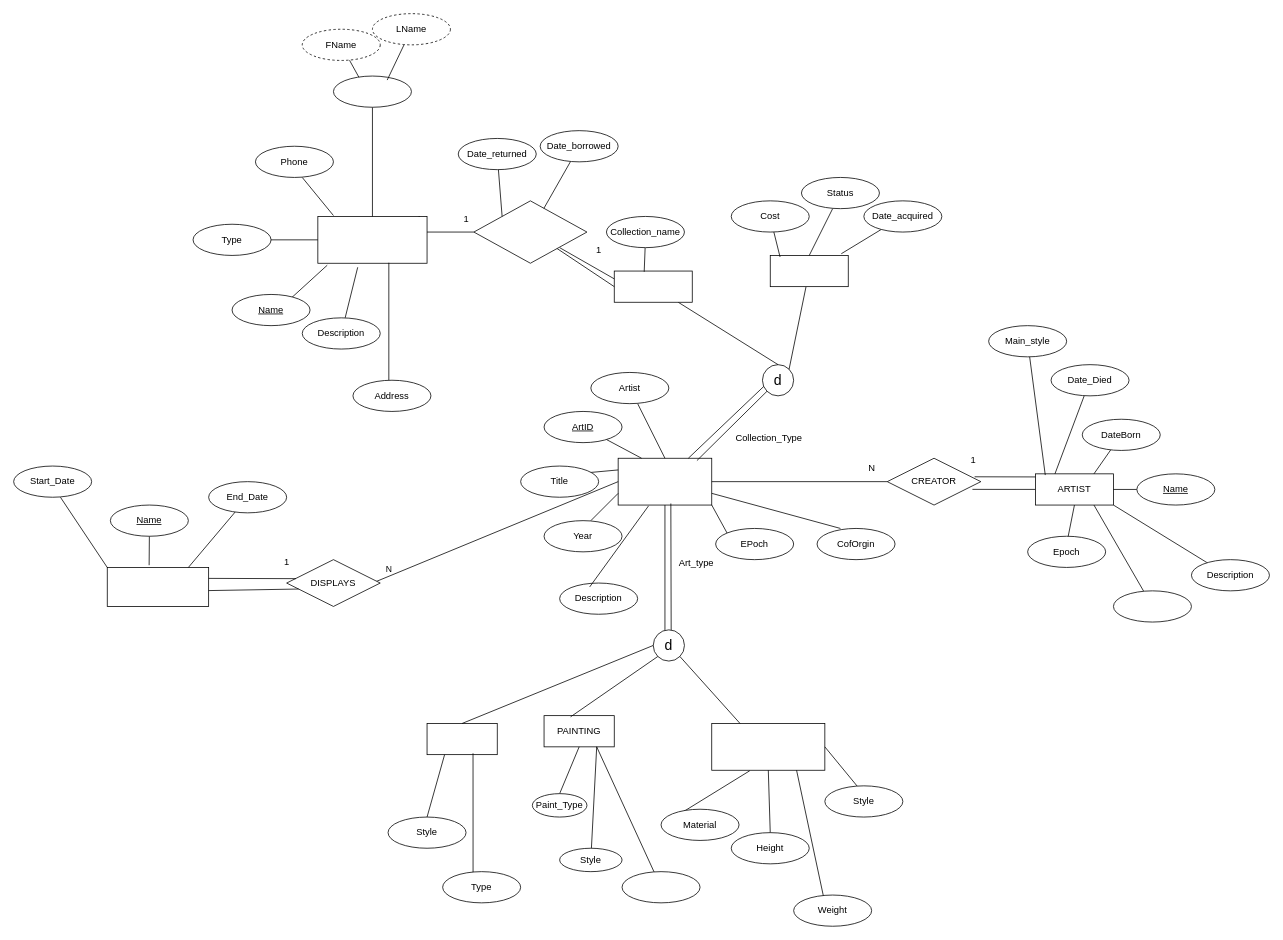
Some shapes in this 1283 by 940 pixel diagram are drawn without their labels. The shapes that lost their labels are listed below. From the top down, each one's centre as x and y in pixels, then its label:
(x=372, y=91): Contact_person
(x=372, y=239): OTHER_COLLECTIONS
(x=530, y=231): BORROWED_FROM
(x=652, y=286): BORROWED
(x=808, y=271): PERMANENT
(x=664, y=481): ART_OBJECTS
(x=157, y=586): EXHIBITION
(x=1152, y=606): CountryOfOrigin
(x=461, y=739): OTHER
(x=768, y=746): SCULPTURE/STATUE
(x=660, y=887): Drawn_on
